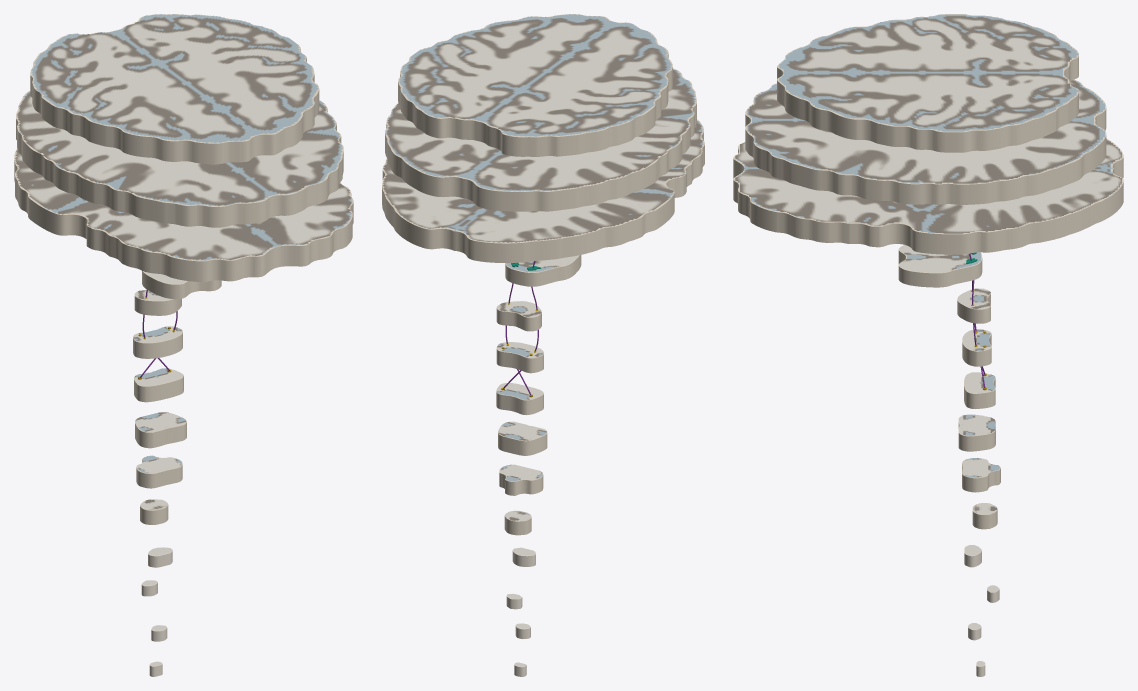
The picture shows the model from 3 angles, left to right: view 1: azimuth 30°, elevation 25°; view 2: azimuth 150°, elevation 25°; view 3: azimuth 270°, elevation 25°; orthographic projection. The views are drawn at different scales.
Parts seen in each view (by area): view 1: L15·切面（灰白质）, L14·切面（灰白质）, L13·切面（灰白质）, L13·背景·丘脑内囊, L14·背景·放射冠, L15·背景·皮质上部, L11·背景·下丘, L07·背景·橄榄中部, L09·背景·脑桥中部, L08·背景·脑桥下部, L06·背景·丘系交叉, L10·背景·脑桥上部 (+4 smaller); view 2: L15·切面（灰白质）, L14·切面（灰白质）, L13·切面（灰白质）, L13·背景·丘脑内囊, L14·背景·放射冠, L15·背景·皮质上部, L11·背景·下丘, L07·背景·橄榄中部, L09·背景·脑桥中部, L08·背景·脑桥下部, L10·背景·脑桥上部, L06·背景·丘系交叉 (+5 smaller); view 3: L15·切面（灰白质）, L14·切面（灰白质）, L13·切面（灰白质）, L13·背景·丘脑内囊, L14·背景·放射冠, L15·背景·皮质上部, L11·背景·下丘, L11·切面（灰白质）, L07·切面（灰白质）, L07·背景·橄榄中部, L06·背景·丘系交叉.
Part boxes in pixels (x1,y1,x2,y2): L15·切面（灰白质）: (31,14,318,142); L14·切面（灰白质）: (17,91,342,206); L13·切面（灰白质）: (15,150,352,260); L13·背景·丘脑内囊: (14,148,353,281); L14·背景·放射冠: (16,91,343,227); L15·背景·皮质上部: (30,14,319,164); L11·背景·下丘: (142,271,221,299); L07·背景·橄榄中部: (135,413,186,448); L09·背景·脑桥中部: (133,329,182,358); L08·背景·脑桥下部: (134,373,183,402); L06·背景·丘系交叉: (136,458,182,488); L10·背景·脑桥上部: (134,293,181,315); L15·切面（灰白质）: (399,14,671,136); L14·切面（灰白质）: (385,68,695,191); L13·切面（灰白质）: (383,121,703,242); L13·背景·丘脑内囊: (382,119,704,263); L14·背景·放射冠: (385,68,696,211); L15·背景·皮质上部: (398,14,672,156); L11·背景·下丘: (505,255,581,286); L07·背景·橄榄中部: (498,423,547,455); L09·背景·脑桥中部: (496,344,543,373); L08·背景·脑桥下部: (496,384,543,415); L10·背景·脑桥上部: (496,301,541,331); L06·背景·丘系交叉: (499,467,543,495); L15·切面（灰白质）: (779,14,1078,131); L14·切面（灰白质）: (747,80,1104,183); L13·切面（灰白质）: (735,138,1121,233); L13·背景·丘脑内囊: (733,139,1123,254); L14·背景·放射冠: (745,79,1106,204); L15·背景·皮质上部: (777,14,1078,152); L11·背景·下丘: (898,245,982,287); L11·切面（灰白质）: (900,245,980,272); L07·切面（灰白质）: (959,414,995,435); L07·背景·橄榄中部: (958,418,995,451); L06·背景·丘系交叉: (962,460,1000,492).
Bounding box in the file's own units: 13.92 × 29.72 × 17.47.
